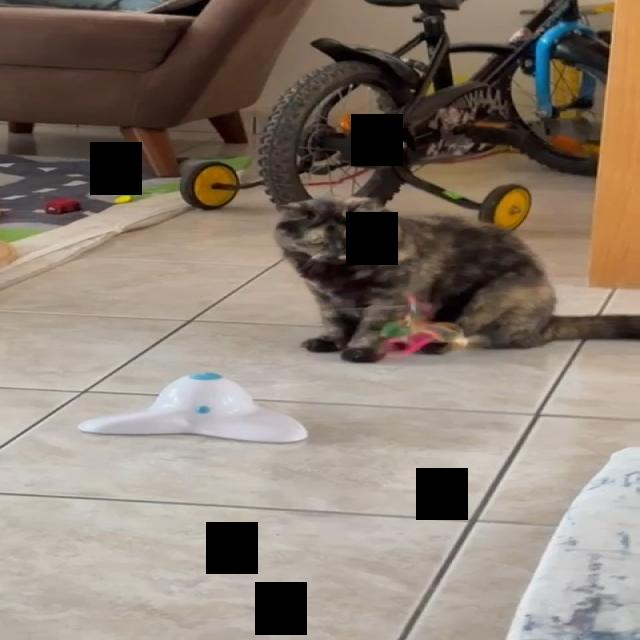authorized: (272, 195, 639, 362)
